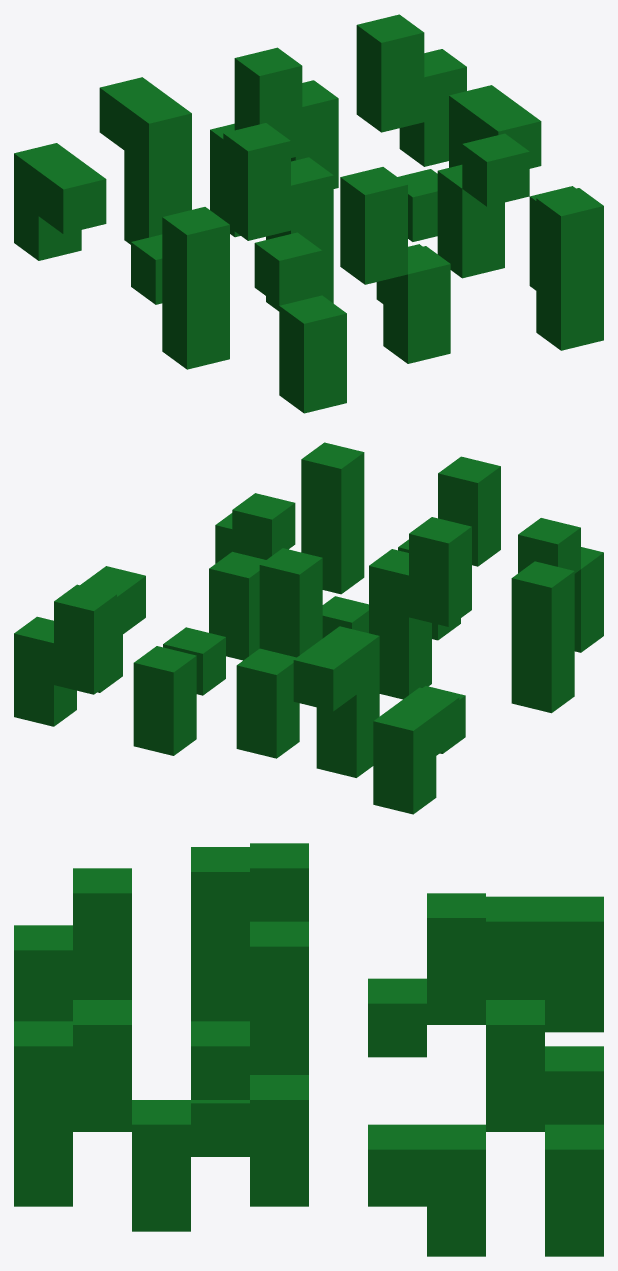
The model's file is grass4.dae.
The picture shows the model from 3 angles, top to bottom: view 1: azimuth 30°, elevation 25°; view 2: azimuth 150°, elevation 25°; view 3: azimuth 270°, elevation 25°; orthographic projection. The views are drawn at different scales.
Visible parts, largest first — view 1: PlaneCOL; view 2: PlaneCOL; view 3: PlaneCOL.
Boxes of the visible parts, x1=… form: PlaneCOL: x1=14, y1=14, x2=603, y2=413; PlaneCOL: x1=14, y1=442, x2=603, y2=814; PlaneCOL: x1=14, y1=843, x2=603, y2=1256.
Bounding box in the file's own units: 1 × 1 × 0.4.
